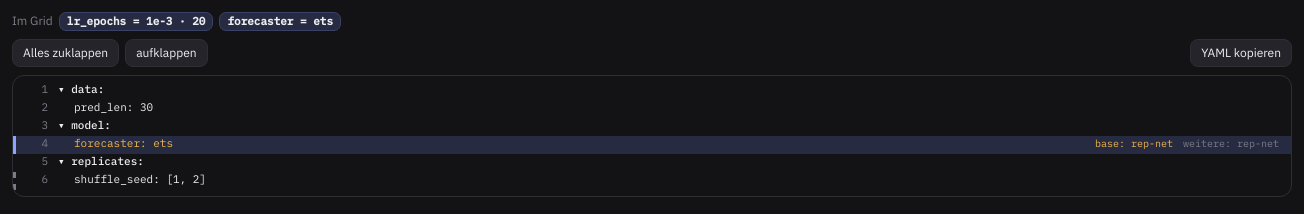
view YAML › 'YAML kopieren' copies the whole config text
The width and height of the screenshot is (1304, 214).
Click the button with test id "copy-yaml" at coordinates (1241, 53), box [1190,39,1292,67]
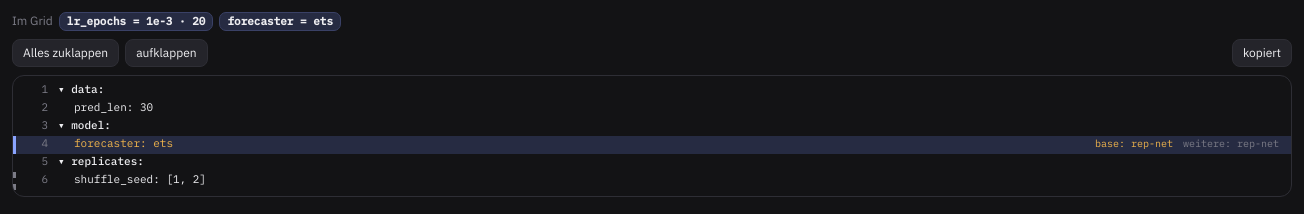
Now the button with test id "copy-yaml" reads "kopiert", box [1232,39,1292,67]
